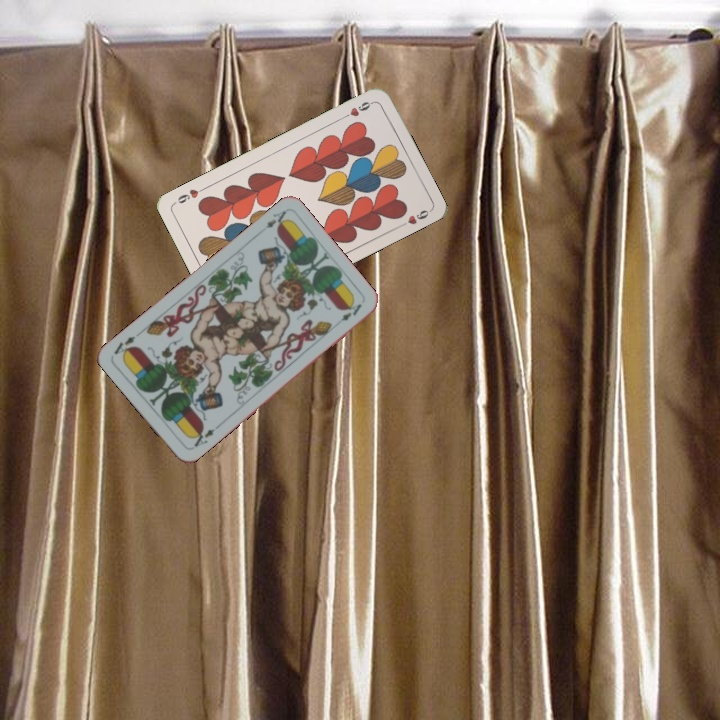EA: (187, 421, 221, 452), (262, 207, 291, 232)
H9: (338, 97, 376, 121)
